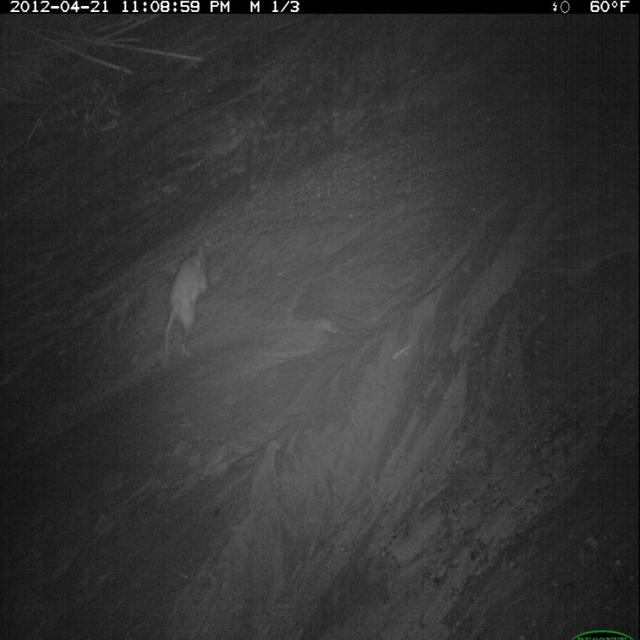opossum: (160, 240, 214, 364)
